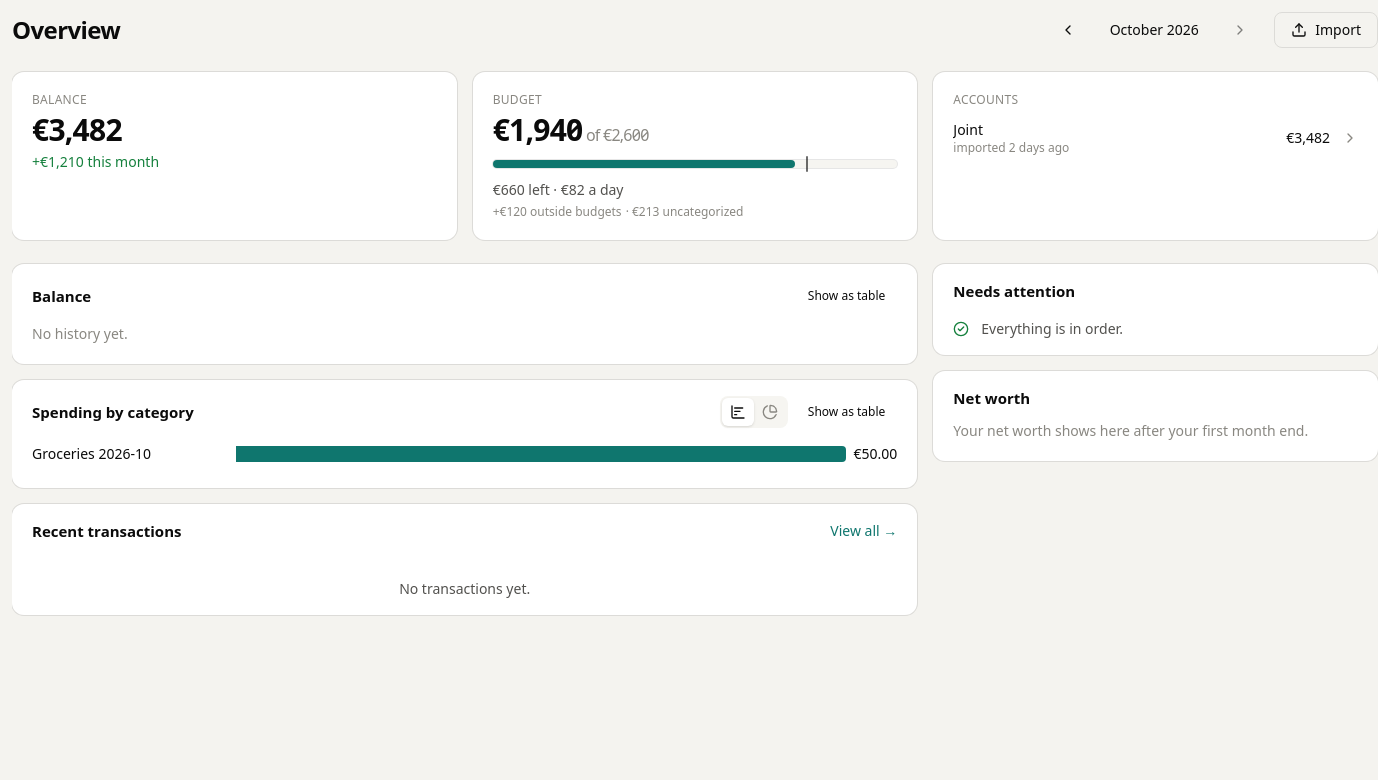
Test case: Balance tile › labels a past month
Expected: the text "+€1,210 this month" is shown, [32,152,159,171]
Click the button named "Previous month" at (1068, 30), box [1050,12,1086,48]
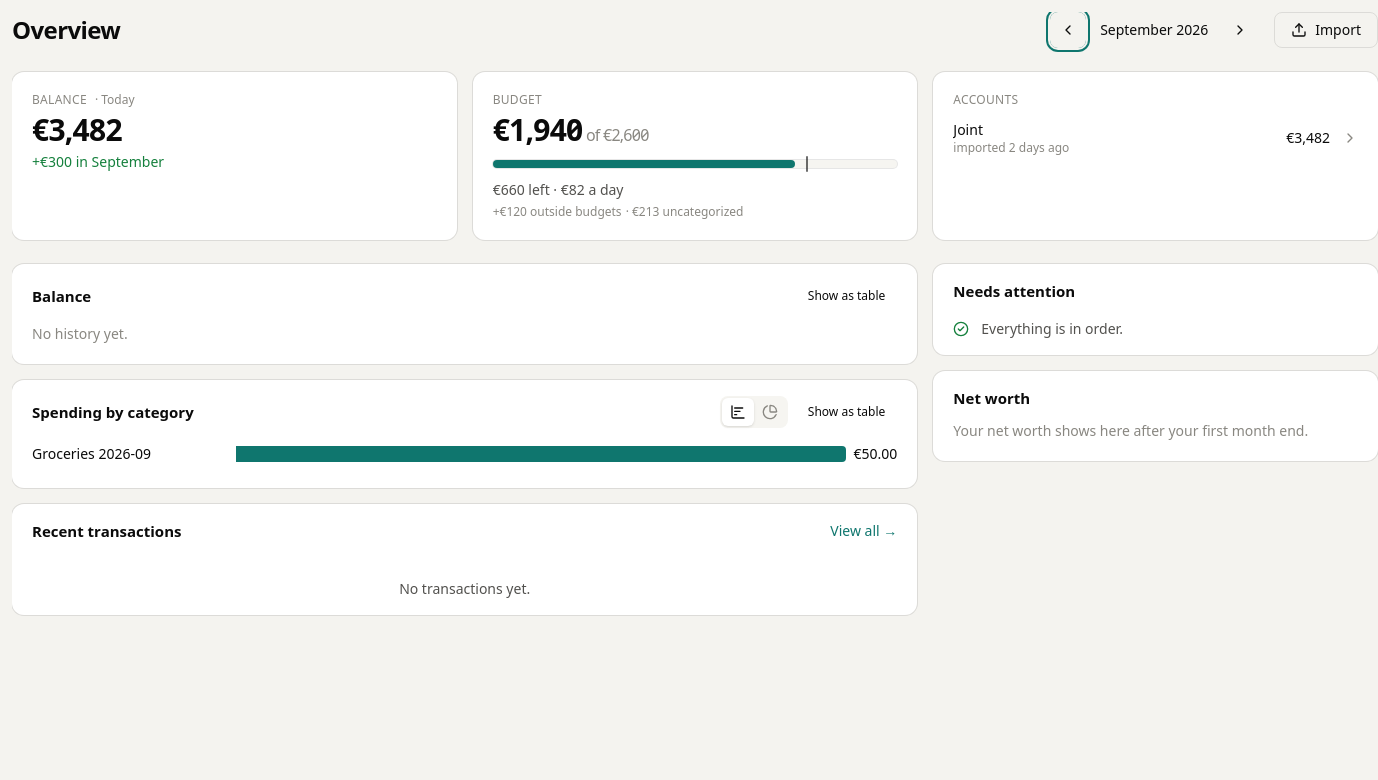
Expected: the text "· Today" is shown, [95,92,135,108]
